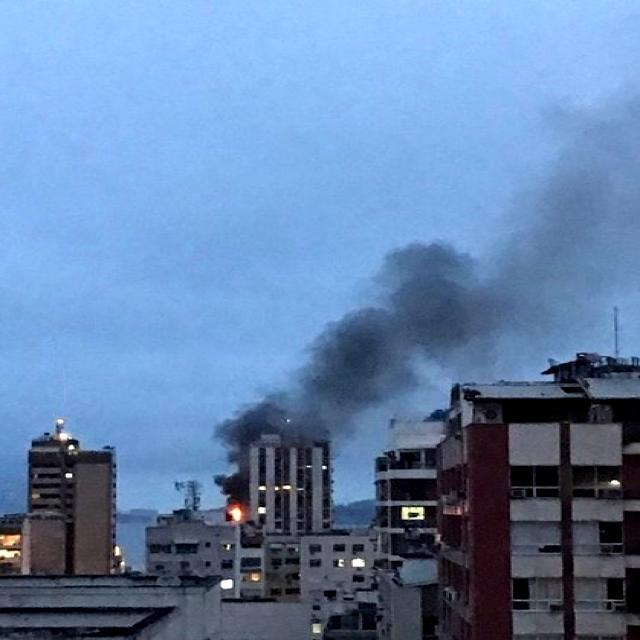Smoke: (236, 213, 600, 444)
